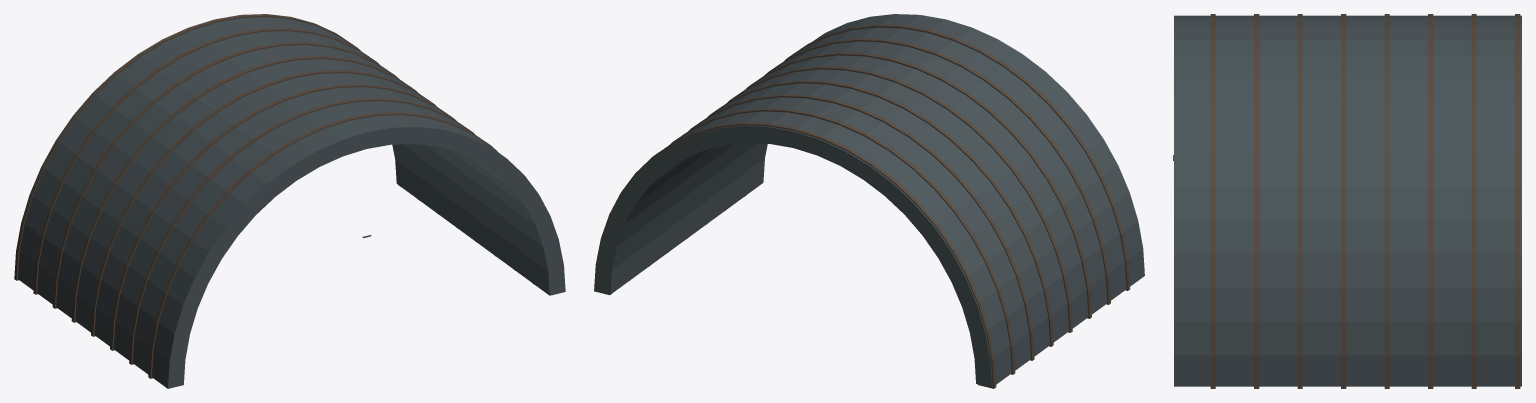
Rendered from vault-roof-3.glb.
The picture shows the model from 3 angles, left to right: view 1: azimuth 30°, elevation 25°; view 2: azimuth 150°, elevation 25°; view 3: azimuth 270°, elevation 25°; orthographic projection. The views are drawn at different scales.
Parts seen in each view (by area): view 1: vault-roof/2/KR-230-3; view 2: vault-roof/2/KR-230-3; view 3: vault-roof/2/KR-230-3.
Boxes of the visible parts, x1=… form: vault-roof/2/KR-230-3: x1=14, y1=14, x2=565, y2=388; vault-roof/2/KR-230-3: x1=594, y1=14, x2=1144, y2=388; vault-roof/2/KR-230-3: x1=1173, y1=14, x2=1521, y2=388.
Size of the model in its own units: 12.08 by 6.08 by 8.02.
